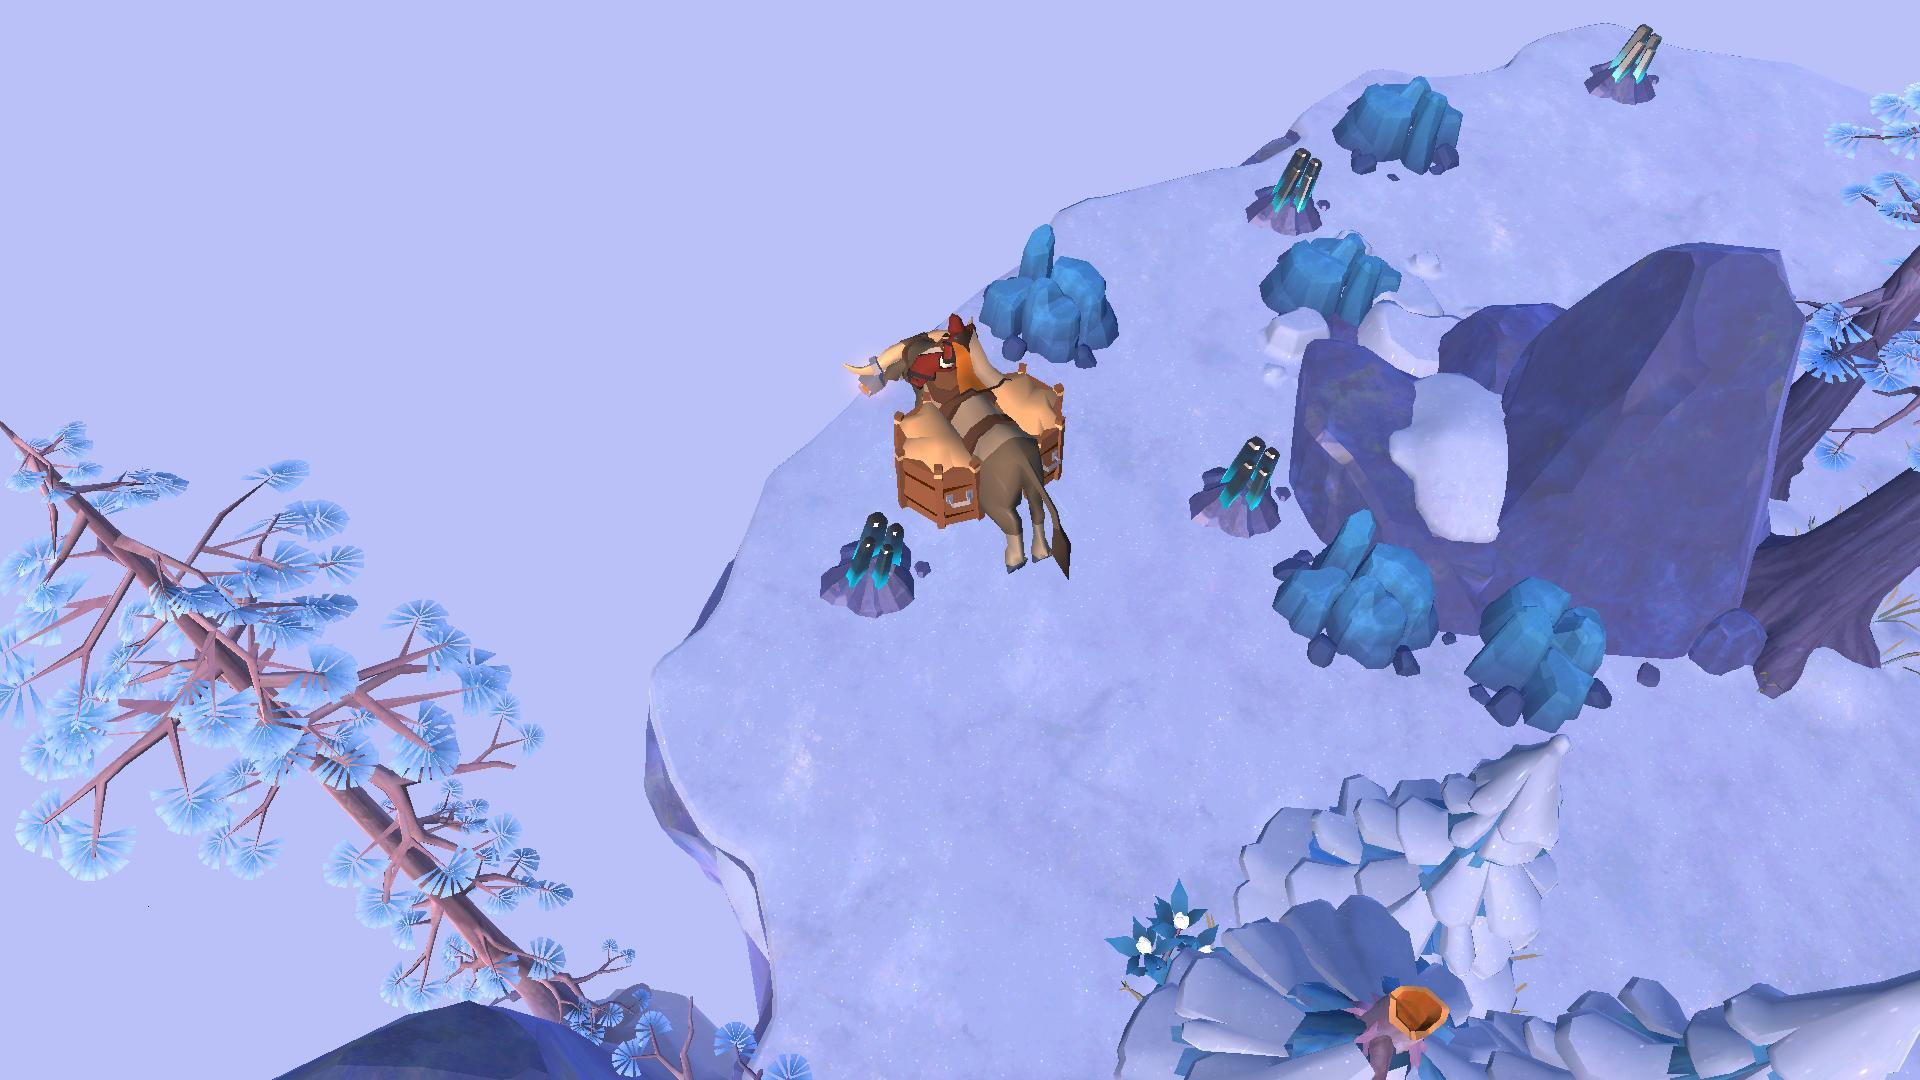fiber_t4: (1105, 880, 1230, 997)
ore_t4: (1212, 430, 1278, 514), (1602, 18, 1669, 98), (843, 509, 907, 591), (1263, 145, 1324, 219)
rock_t4: (1269, 506, 1440, 683), (1457, 578, 1613, 740), (969, 214, 1117, 367), (1259, 233, 1404, 335), (1331, 78, 1469, 177)
